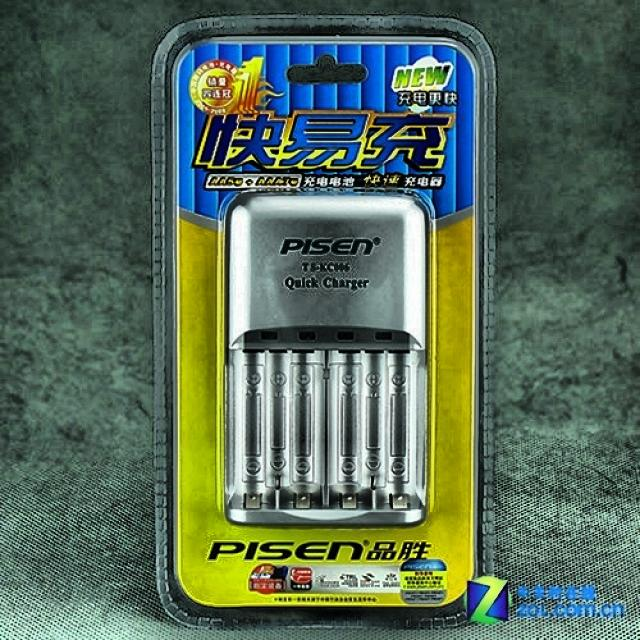Non-Valuable Waste - Batteries: (230, 351, 422, 511)
